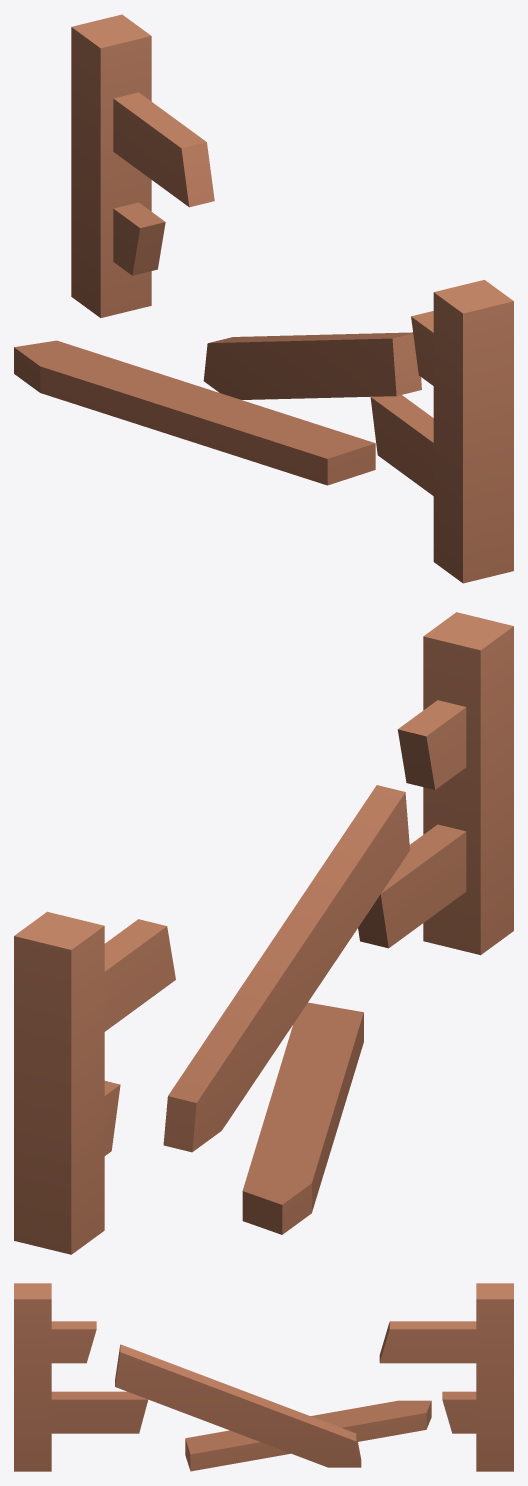
File: fence_broken.glb
3 views of the same model, one above another, from view 1: azimuth 30°, elevation 25°; view 2: azimuth 150°, elevation 25°; view 3: azimuth 270°, elevation 25° (orthographic). The views are drawn at different scales.
Visible parts, largest first — view 1: fence-broken; view 2: fence-broken; view 3: fence-broken.
Part boxes in pixels (x1=…): fence-broken: x1=14, y1=14, x2=513, y2=583; fence-broken: x1=14, y1=612, x2=513, y2=1254; fence-broken: x1=14, y1=1283, x2=513, y2=1471.
Bounding box in the file's own units: 0.2547 × 0.38 × 1.
Materials: 1 (1 with a texture image).
